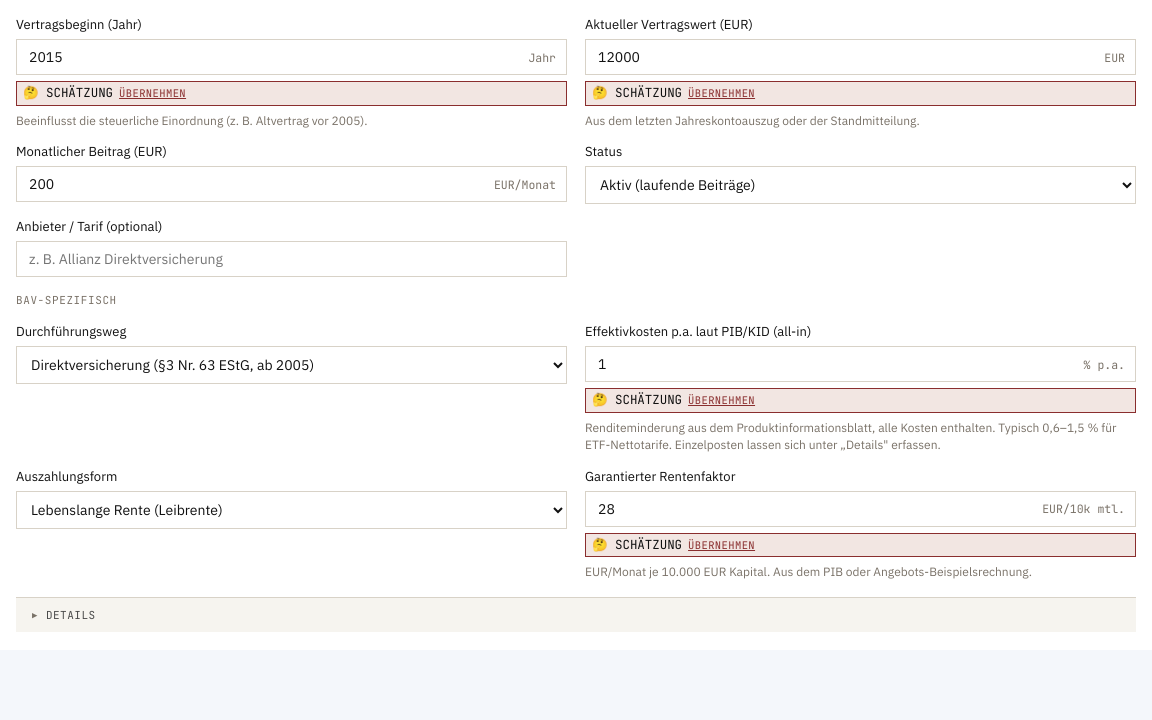
it: InstanceCard — evidence flag clears on user edit (#03) › BavCard / fees.wrapperAssetFee (effektivkosten) › end-to-end: badge transitions from Schätzung to bestätigt on edit
Check: the text "🤔 Schätzung Übernehmen" below "% p.a." is shown, box [608,391,682,408]
# Fire a single edit — Harness updates evidenceMap synchronously.
Replace the text in the number field labelled "Effektivkosten p.a. laut PIB/KID (all-in)" with "1.5". click: point(837, 364)
box: [596,354,1078,374]
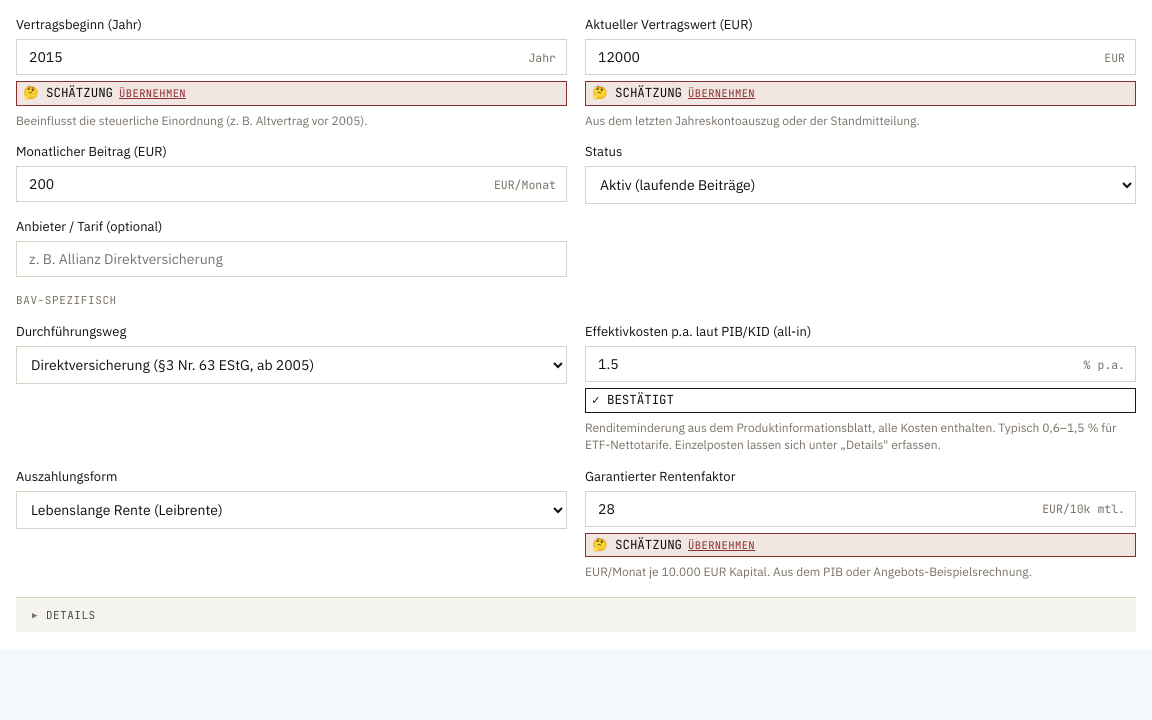
Check: the text "✓ bestätigt" is shown, box [585,388,1136,413]
